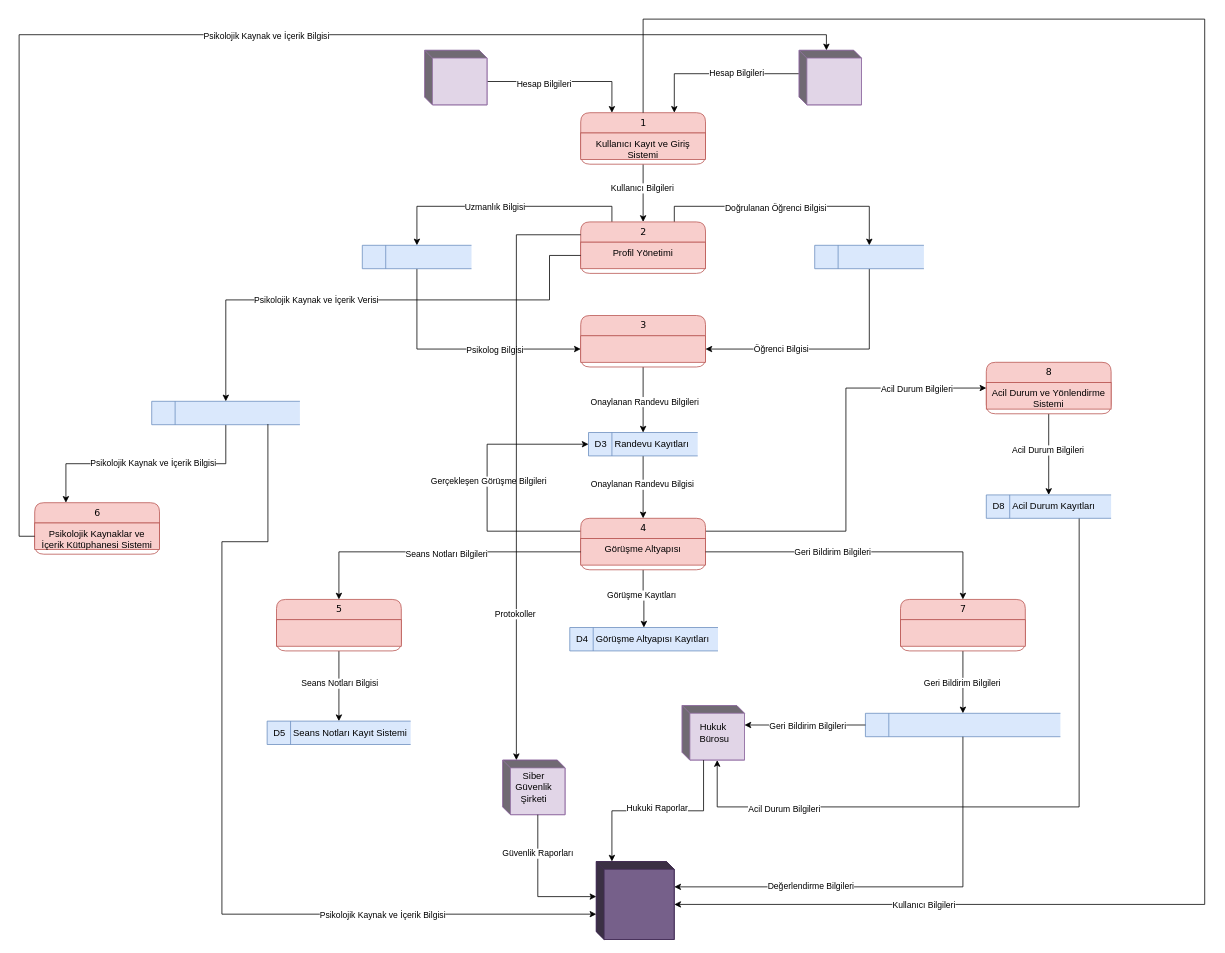
Image size: 1225x953. Some labels were removed from this diagram. The shapes that lost their labels are listed below. From the top down, each one's centre as x and y in pixels, then its label:
At [455,77]: "Gönüllü Psikolog".
At [830,77]: "Öğrenci".
At [417,257]: "D1 Psikolog Kayıtları".
At [869,257]: "D2 Öğrenci Kayıtları".
At [643,348]: "Randevu Sistemi".
At [225,413]: "D6 İçerik Kütüphanesi Kayıtları".
At [338,632]: "Seans Notları Kayıt Sistemi".
At [962,632]: "Geri Bildirim ve Değerlendirme Sistemi".
At [962,725]: "D7 Geri Bildirim ve Değerlendirme Kayıtları".
At [635,900]: "SİSTEM YÖNETİCİSİ".
